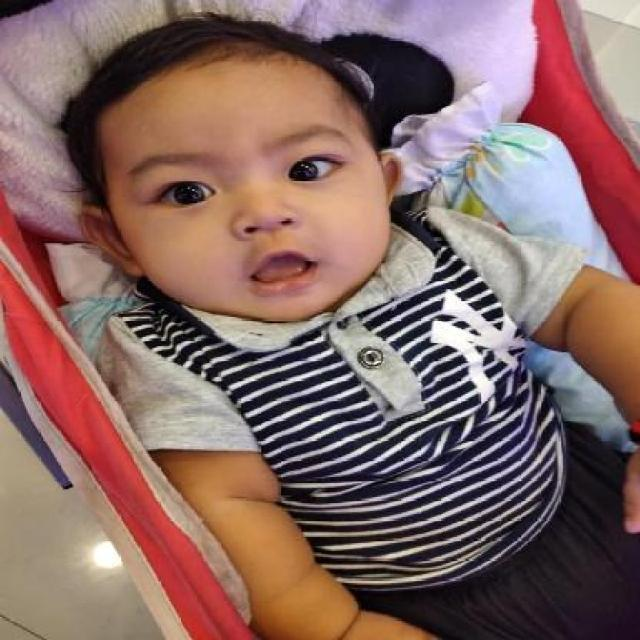baby: (46, 14, 639, 638)
